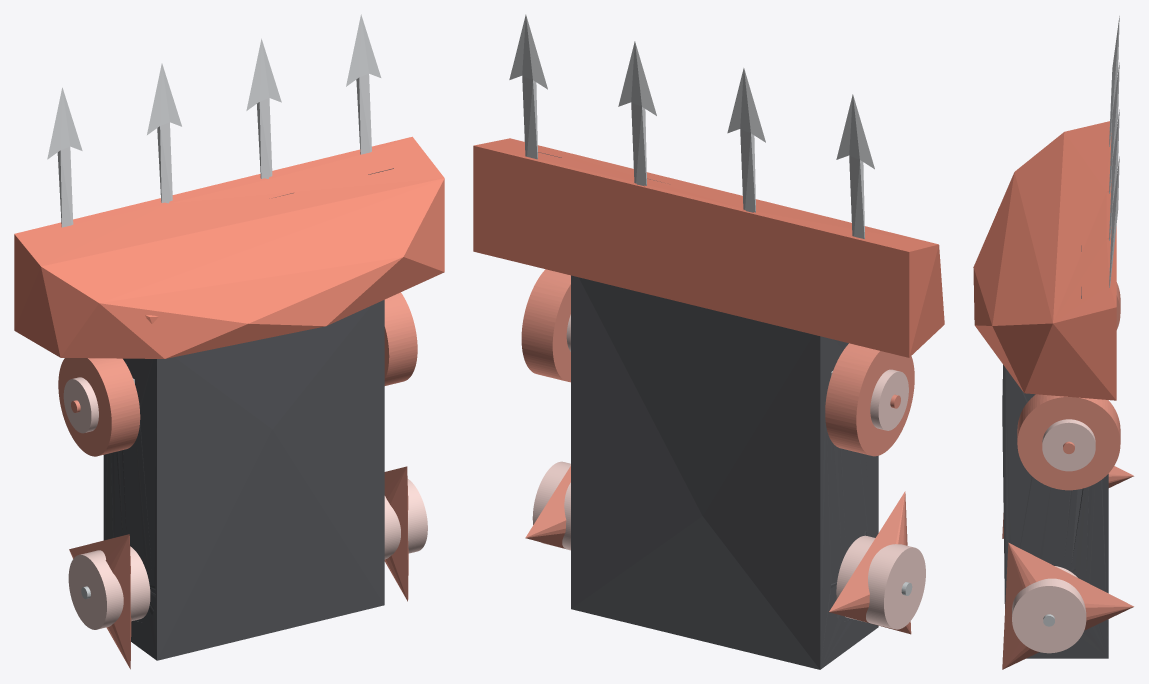
The model's file is immovable_object.glb.
The picture shows the model from 3 angles, left to right: view 1: azimuth 30°, elevation 25°; view 2: azimuth 150°, elevation 25°; view 3: azimuth 270°, elevation 25°; orthographic projection. The views are drawn at different scales.
Visible parts, largest first — view 1: chassis, shield, wheel_r1, dt_hub_wheel_r0, wheel_l1, wheel_r0, fork_1, fork_2, fork_3, fork_0, wheel_l0, dt_hub_wheel_l0 (+1 smaller); view 2: chassis, shield, wheel_r1, dt_hub_wheel_r0, wheel_l1, wheel_r0, fork_1, fork_3, fork_2, fork_0, dt_hub_wheel_r1, wheel_l0 (+1 smaller); view 3: shield, chassis, wheel_l1, dt_hub_wheel_l0, wheel_l0, dt_hub_wheel_l1, fork_3, fork_1, fork_2, fork_0, wheel_r0.
Part boxes in pixels (<box>): chassis: <box>103,300,384,660</box>; shield: <box>14,136,444,358</box>; wheel_r1: <box>58,358,140,456</box>; dt_hub_wheel_r0: <box>68,546,150,629</box>; wheel_l1: <box>384,292,417,385</box>; wheel_r0: <box>69,534,131,669</box>; fork_1: <box>147,63,181,203</box>; fork_2: <box>246,38,281,178</box>; fork_3: <box>346,14,381,154</box>; fork_0: <box>47,87,82,227</box>; wheel_l0: <box>384,466,408,601</box>; dt_hub_wheel_l0: <box>384,479,427,559</box>; chassis: <box>571,275,878,669</box>; shield: <box>473,138,944,357</box>; wheel_r1: <box>825,343,914,456</box>; dt_hub_wheel_r0: <box>836,535,925,629</box>; wheel_l1: <box>521,269,570,382</box>; wheel_r0: <box>829,491,911,634</box>; fork_1: <box>727,68,765,212</box>; fork_3: <box>509,14,547,159</box>; fork_2: <box>618,41,656,185</box>; fork_0: <box>836,94,874,239</box>; dt_hub_wheel_r1: <box>870,369,908,430</box>; wheel_l0: <box>525,466,570,548</box>; shield: <box>973,121,1116,400</box>; chassis: <box>1002,365,1108,658</box>; wheel_l1: <box>1017,394,1120,490</box>; dt_hub_wheel_l0: <box>1012,566,1086,653</box>; wheel_l0: <box>1002,542,1133,669</box>; dt_hub_wheel_l1: <box>1042,419,1095,471</box>; fork_3: <box>1109,156,1119,287</box>; fork_1: <box>1109,62,1119,193</box>; fork_2: <box>1109,109,1119,240</box>; fork_0: <box>1109,16,1119,146</box>; wheel_r0: <box>1002,466,1133,538</box>.
Bounding box in the file's own units: 112 × 145 × 40.61.
